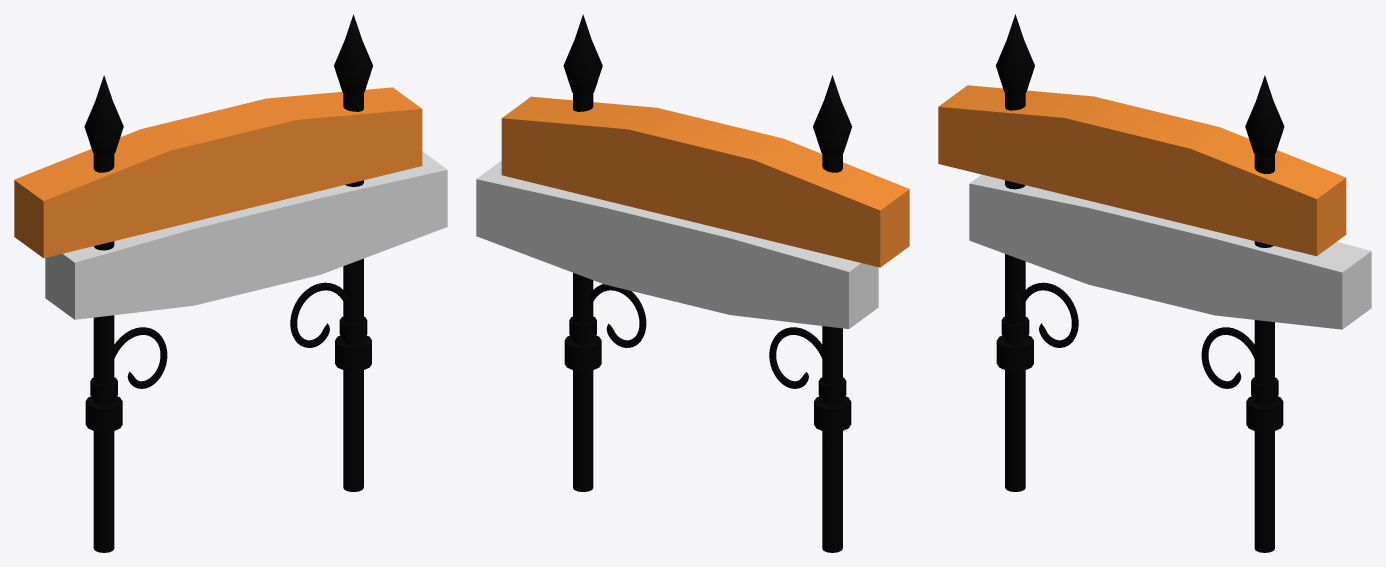
Rendered from BulletinBoard.FBX.
3 renders of one model, left to right at view 1: azimuth 30°, elevation 25°; view 2: azimuth 150°, elevation 25°; view 3: azimuth 330°, elevation 25°, orthographic.
Parts seen in each view (by area): view 1: Box026, Box027, silver_pilar001, silver_pilar; view 2: Box026, Box027, silver_pilar001, silver_pilar; view 3: Box026, Box027, silver_pilar001, silver_pilar.
Part boxes in pixels (<box>): Box026: <box>14,87,422,258</box>; Box027: <box>45,151,447,319</box>; silver_pilar001: <box>84,75,167,552</box>; silver_pilar: <box>290,14,372,491</box>; Box026: <box>501,96,909,267</box>; Box027: <box>476,160,878,328</box>; silver_pilar001: <box>769,75,852,552</box>; silver_pilar: <box>563,14,646,491</box>; Box026: <box>938,85,1346,256</box>; Box027: <box>969,174,1371,329</box>; silver_pilar001: <box>996,14,1078,491</box>; silver_pilar: <box>1201,75,1284,552</box>.
Bounding box in the file's own units: 260 × 291 × 34.38.
